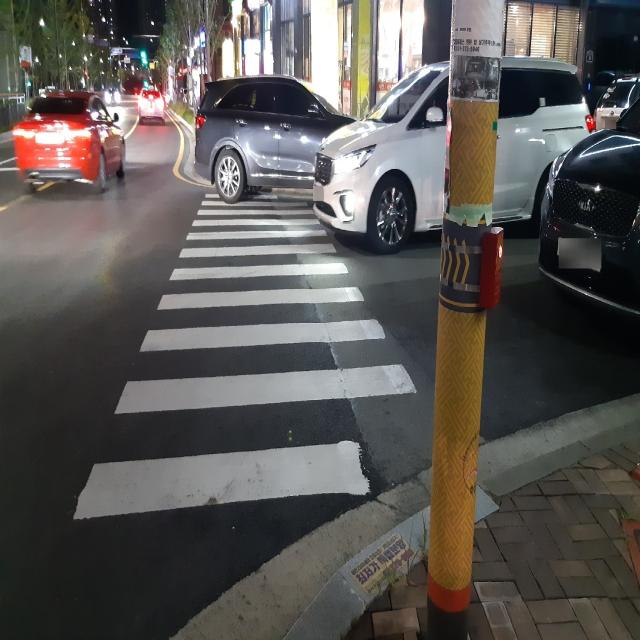횡단보도: (72, 188, 418, 520)
